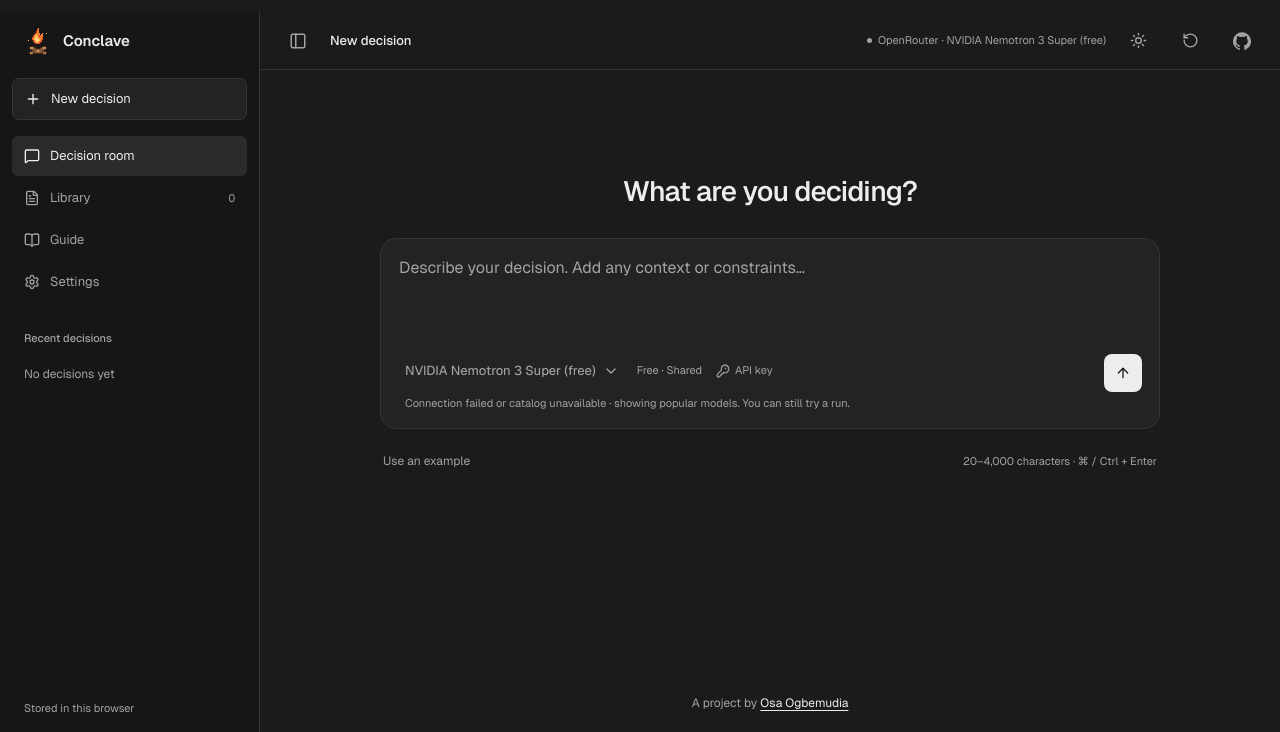
Test case: decision room › runs the council and renders the memo
The image size is (1280, 732).
Type "Should we launch this product to five customers next month?" into the text box named "Decision brief" at (770, 303), box left=397, top=255, right=1143, bottom=351
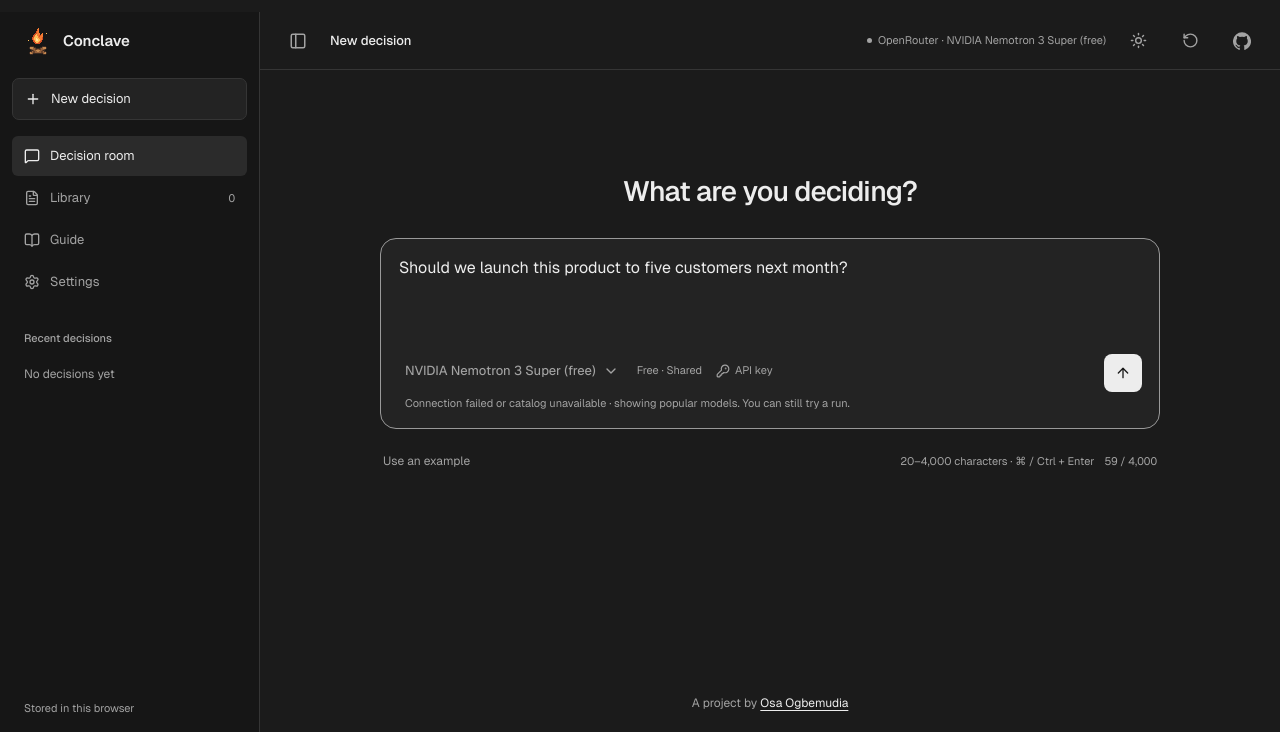
Click the button named "convene council" at (1123, 373), box left=1103, top=353, right=1143, bottom=393
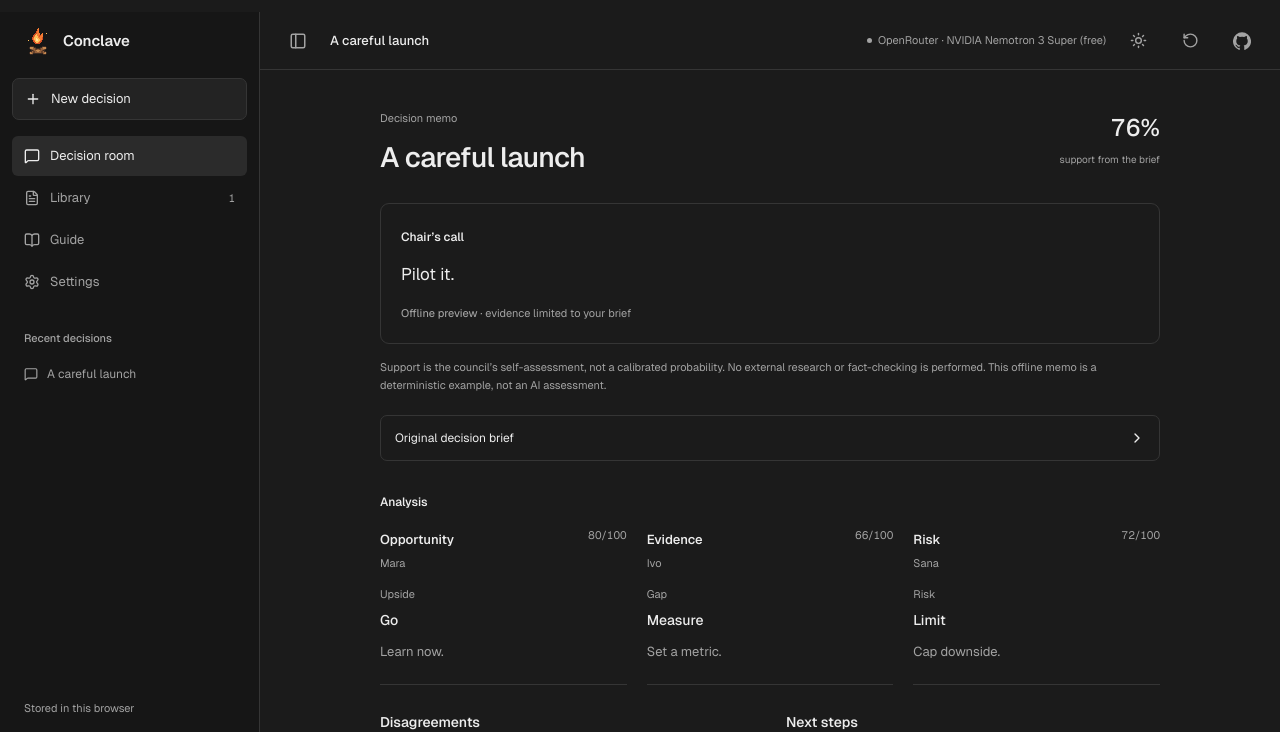
Expected: the text "Pilot it." is shown, left=401, top=263, right=454, bottom=285
Expected: the text "Offline preview" is shown, left=401, top=306, right=478, bottom=320
